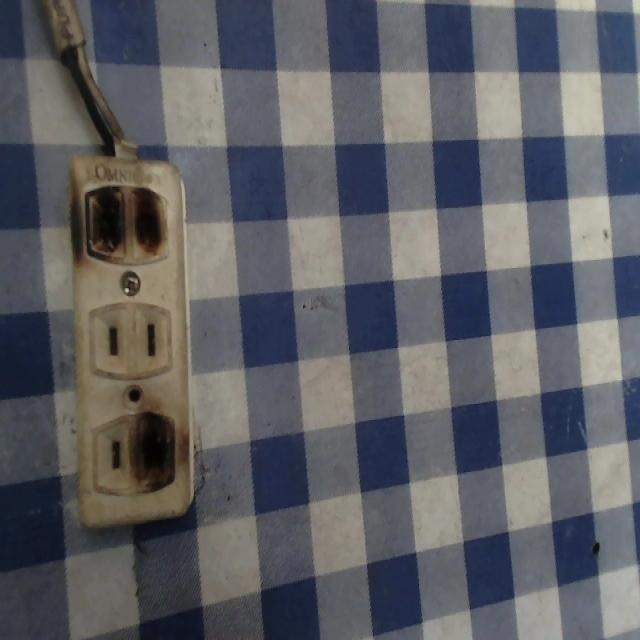-: (66, 174, 173, 274), (127, 406, 189, 498)
